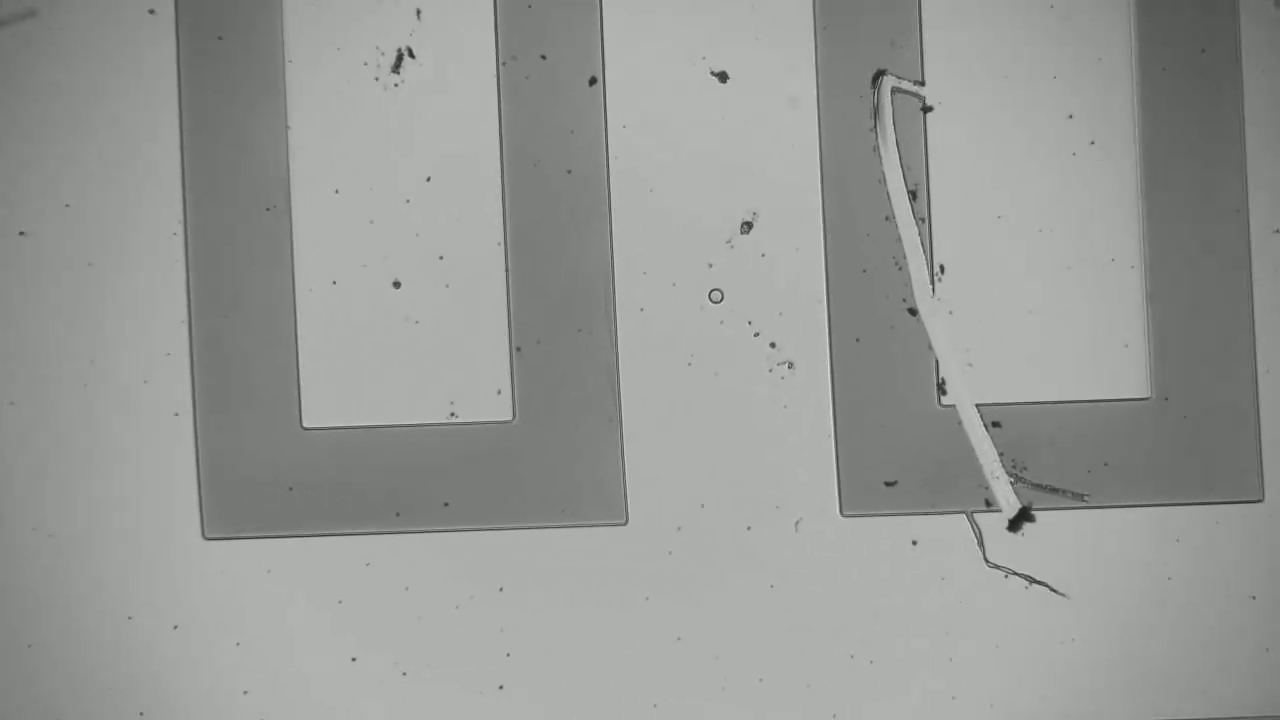Short_circuit: (953, 375, 1052, 547)
